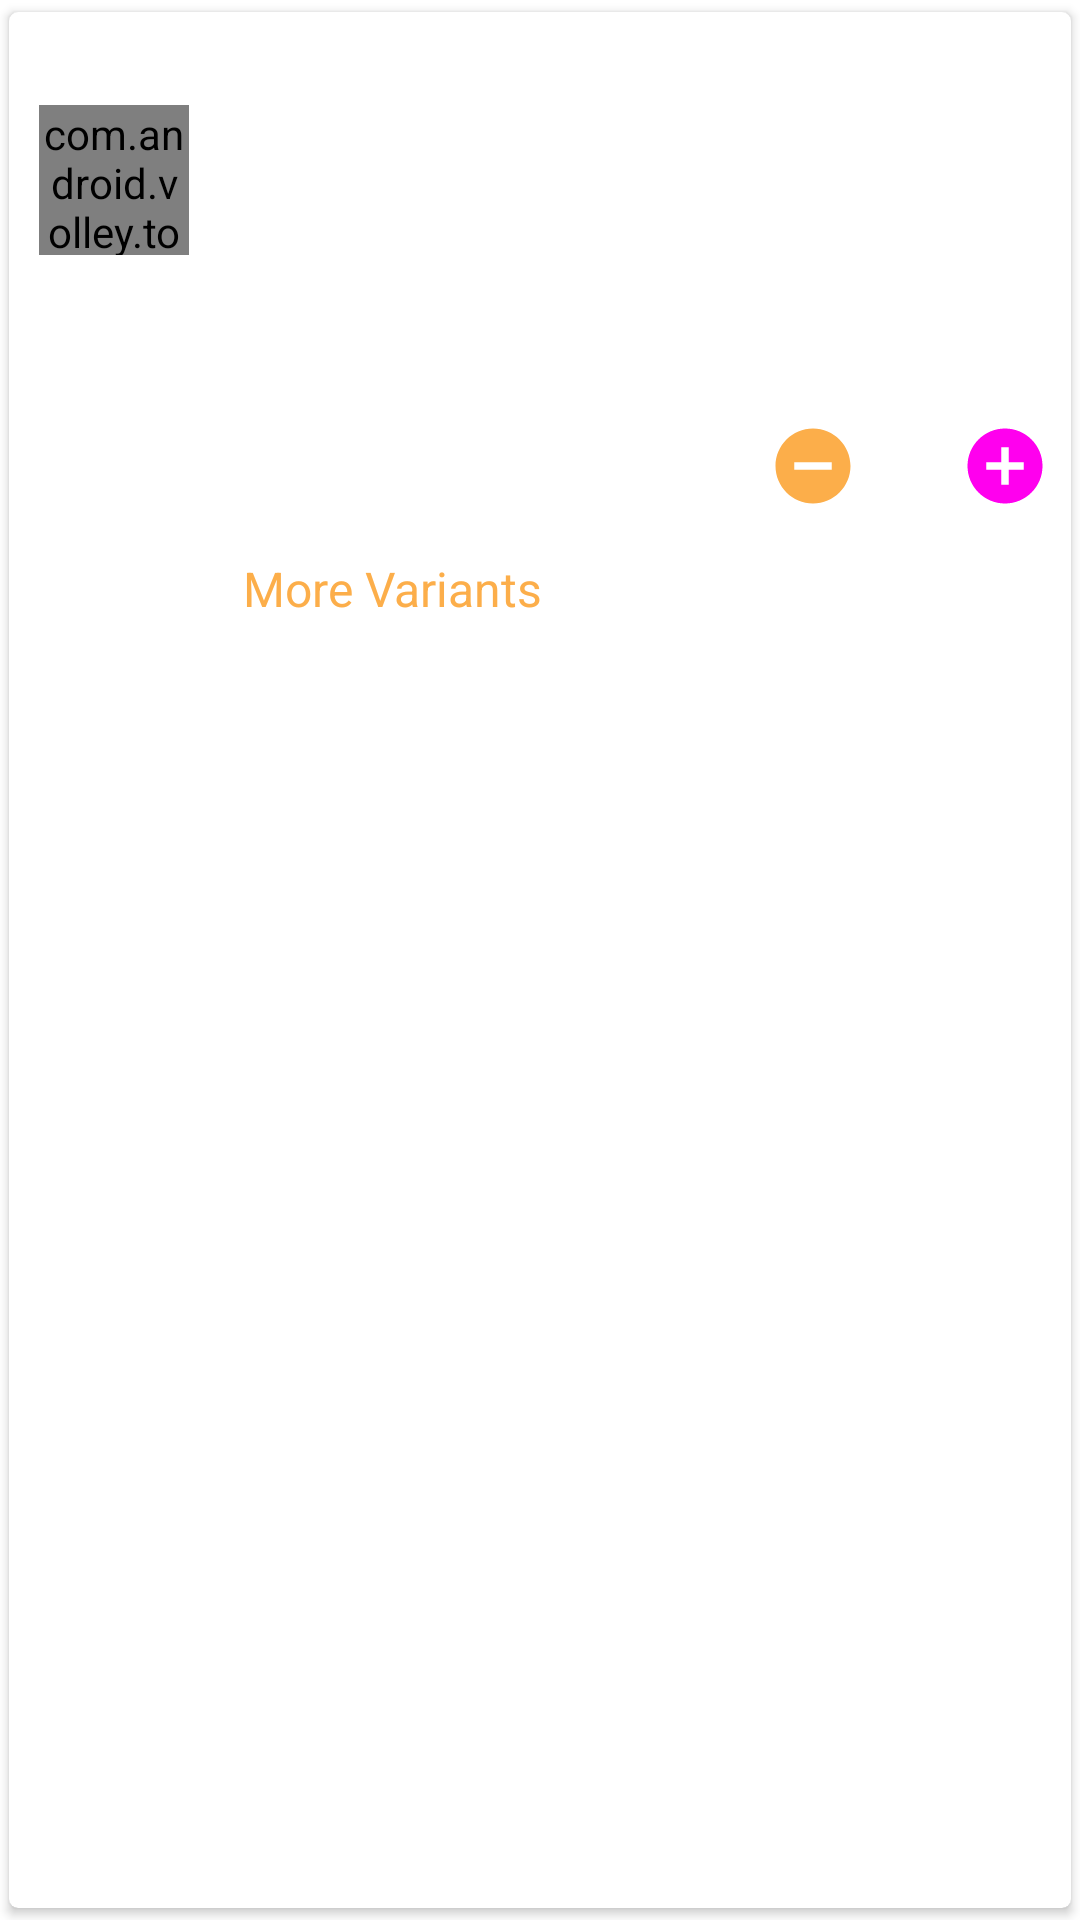

Where icons sit on this 1080×1920 app screen, as (x1, y1, x2, y2):
add: (967, 428, 1043, 504)
remove: (775, 428, 851, 504)
